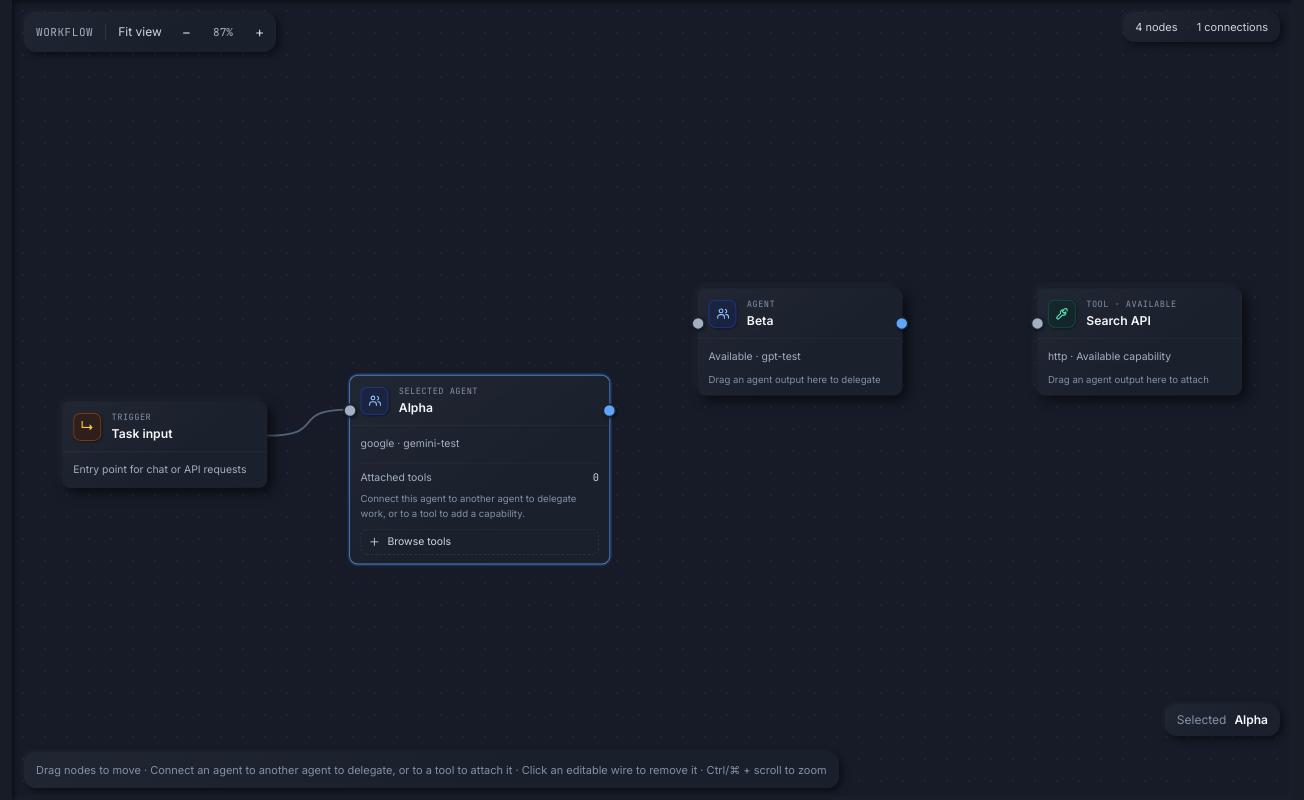
Test: WorkflowCanvas editing › does not switch the primary agent when connecting from a candidate
The width and height of the screenshot is (1304, 800).
Press the mouse on the button named "Connect from Beta": (902, 323) [895,316,909,330]
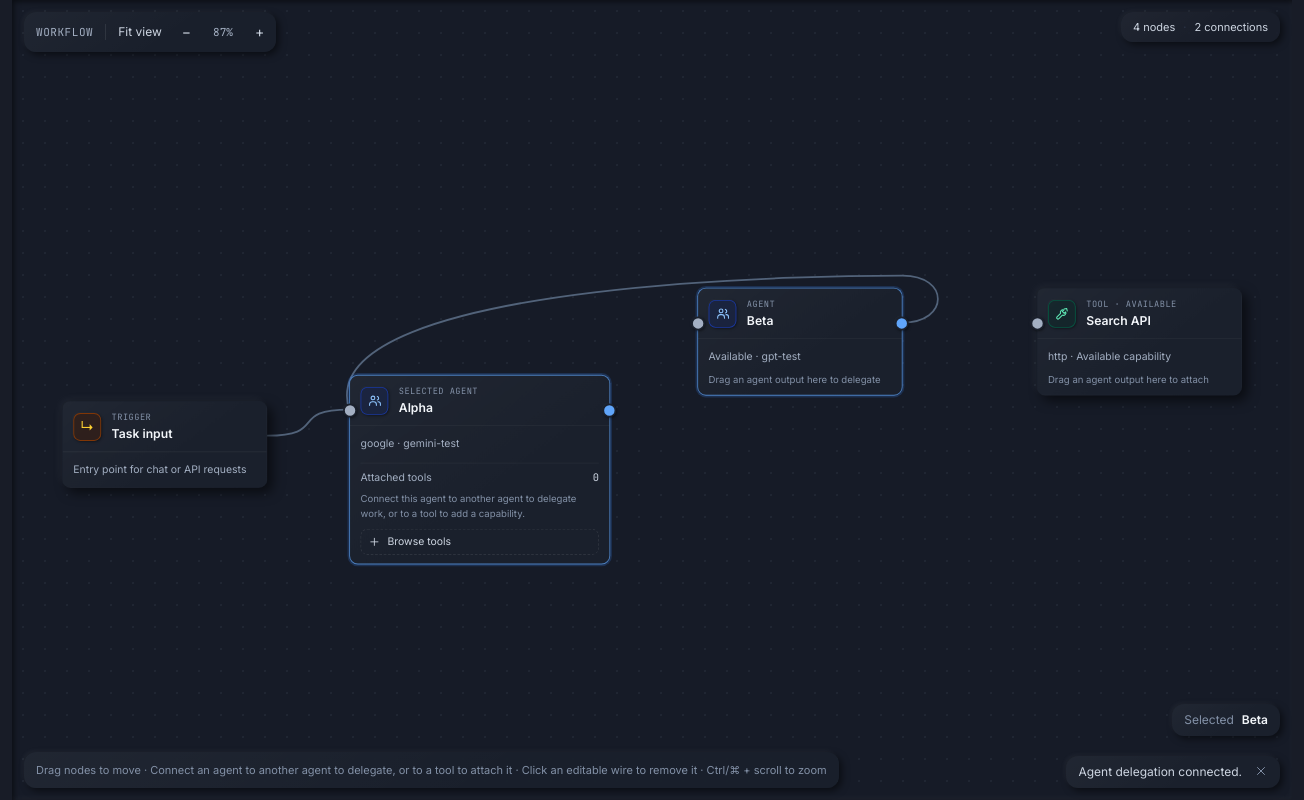
Expected: the button "Remove connection from Beta to Alpha" is shown, [347,276,938,410]
Now the message reads "Agent delegation connected.", box [1078,764,1242,779]
